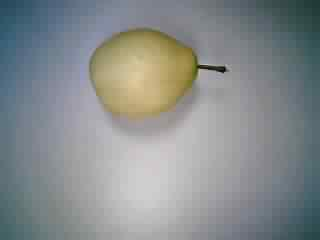pear: (80, 23, 236, 121)
